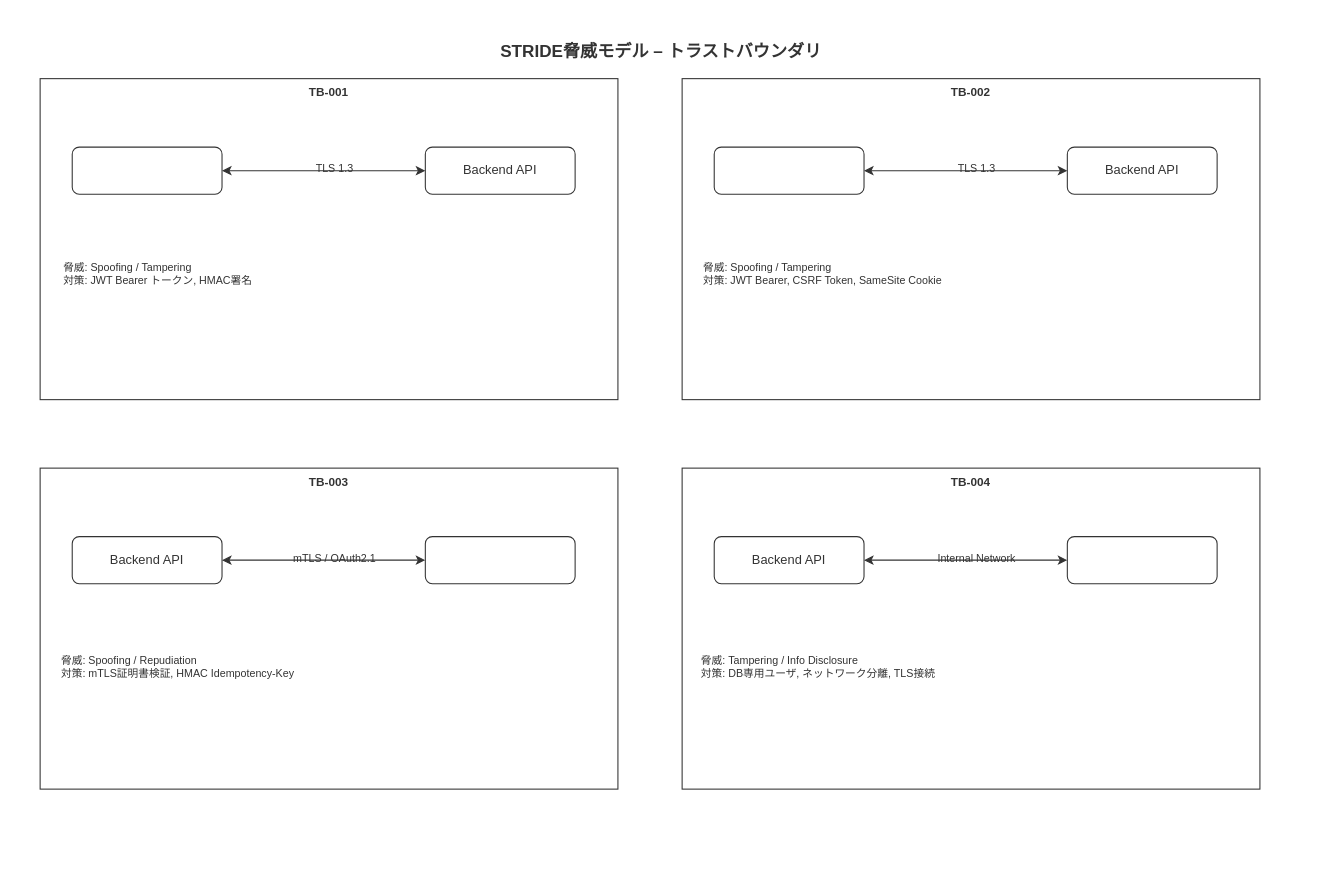
Image size: 1320x892. Some labels were removed from this diagram. The shapes that lost their labels are listed below. From the top down, each one's centre as x and y in pixels, then its label:
point 146,170: ハンディ端末
point 788,170: Web APP
point 499,560: 親機（外部）
point 1141,560: PostgreSQL
